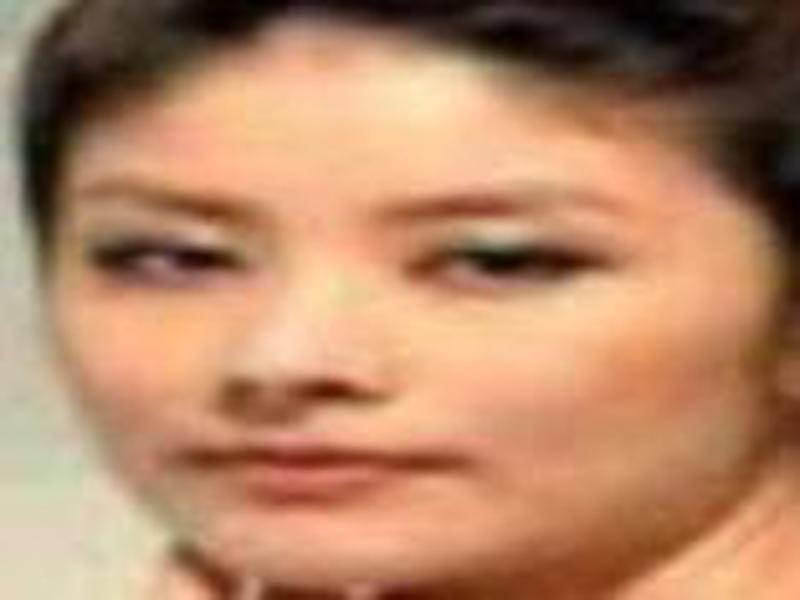without_mask: (51, 125, 734, 589)
